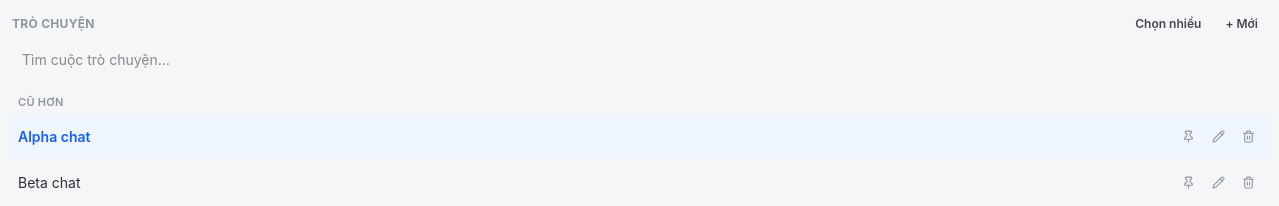
the pencil action also opens rename mode
Click the button named "Đổi tên cuộc trò chuyện" in the row of "Alpha chat".
click(1218, 136)  # box [1204,122,1232,150]
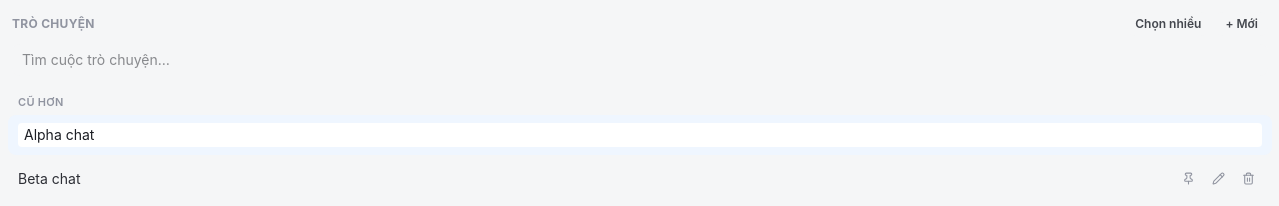
Expected: the field named "Tên cuộc trò chuyện" is shown, [18,122,1262,146]
